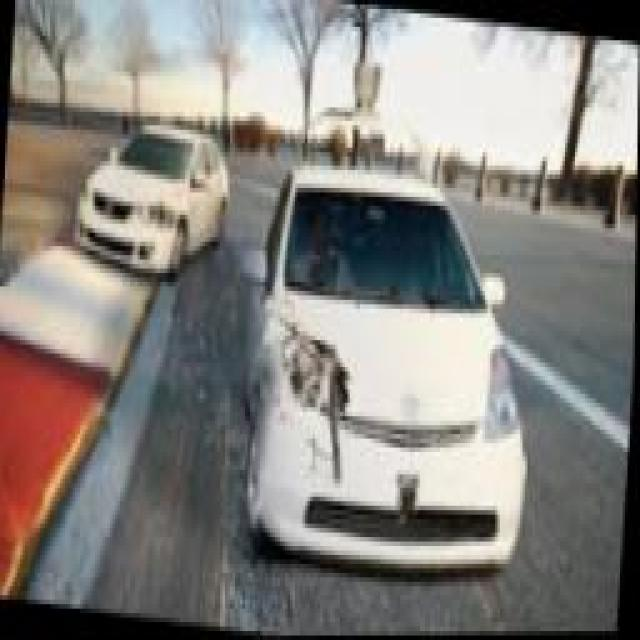replaceable: (280, 316, 364, 480), (140, 199, 176, 239)
